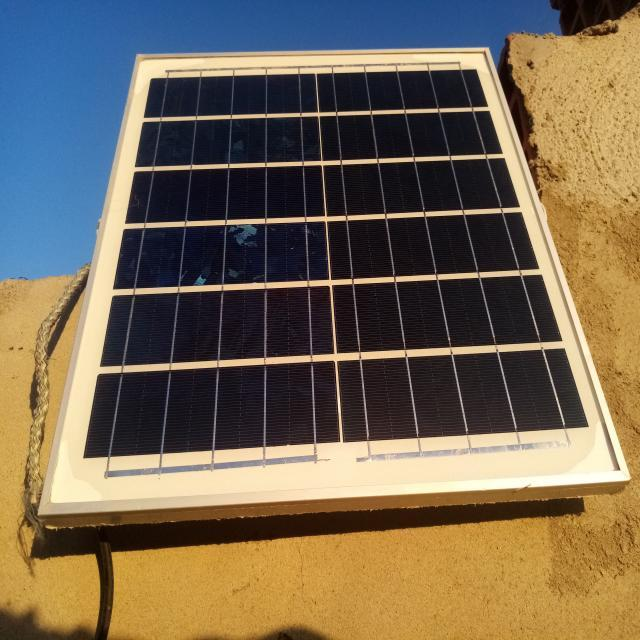no faulty: (42, 53, 625, 511)
